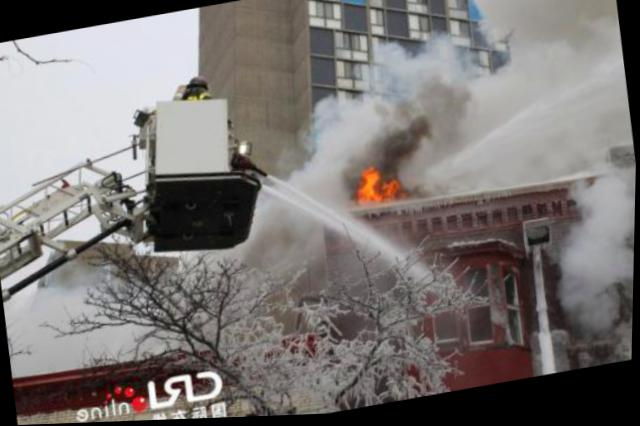fire: (355, 168, 385, 206), (381, 177, 404, 203)
